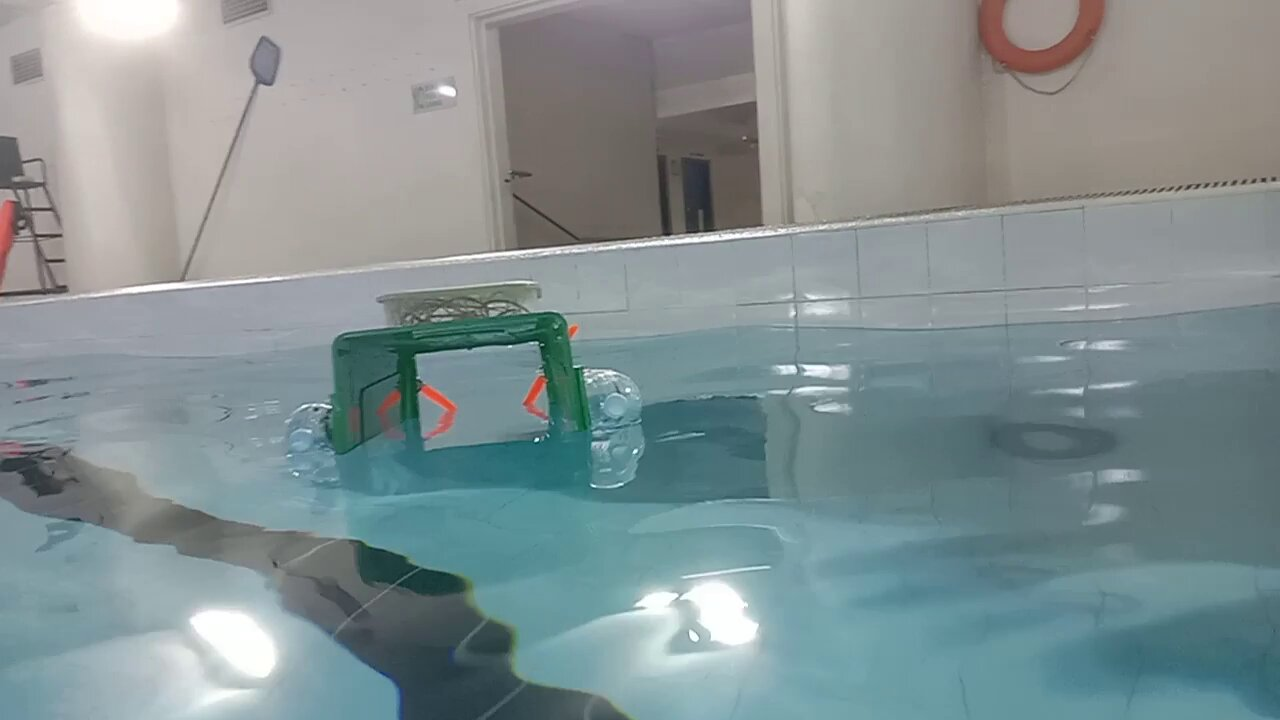drone: (285, 278, 647, 444)
